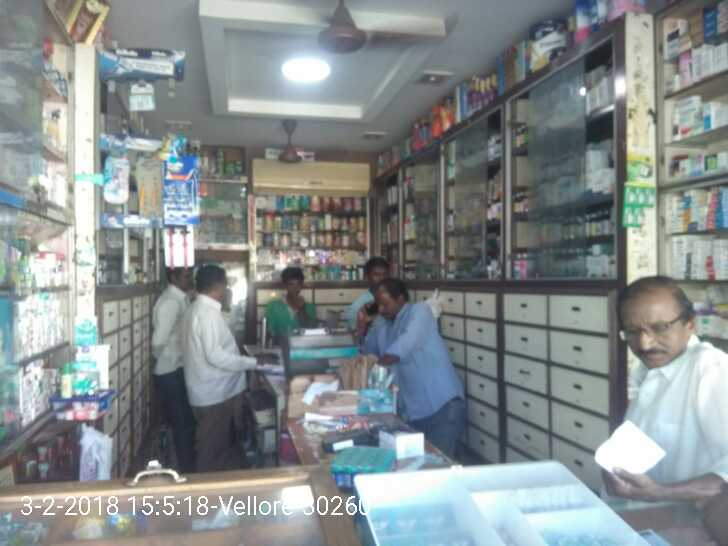beauty: (163, 152, 202, 225), (102, 159, 127, 206)
